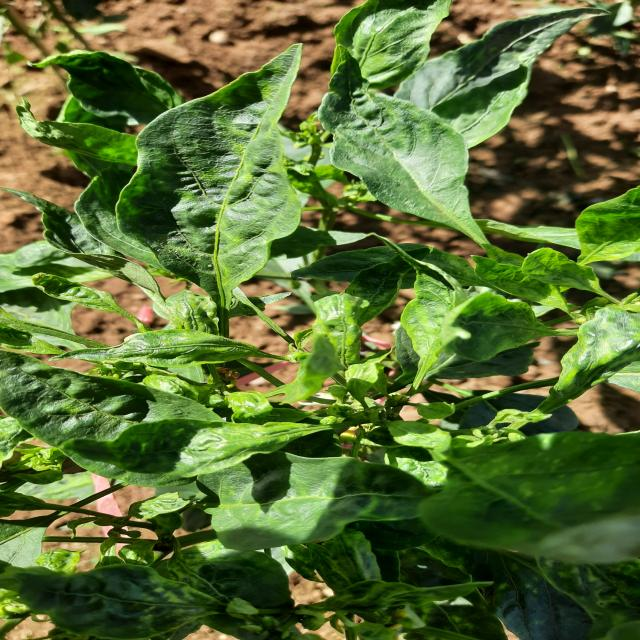thrips: (145, 32, 310, 299), (11, 555, 262, 640), (61, 419, 331, 478)
